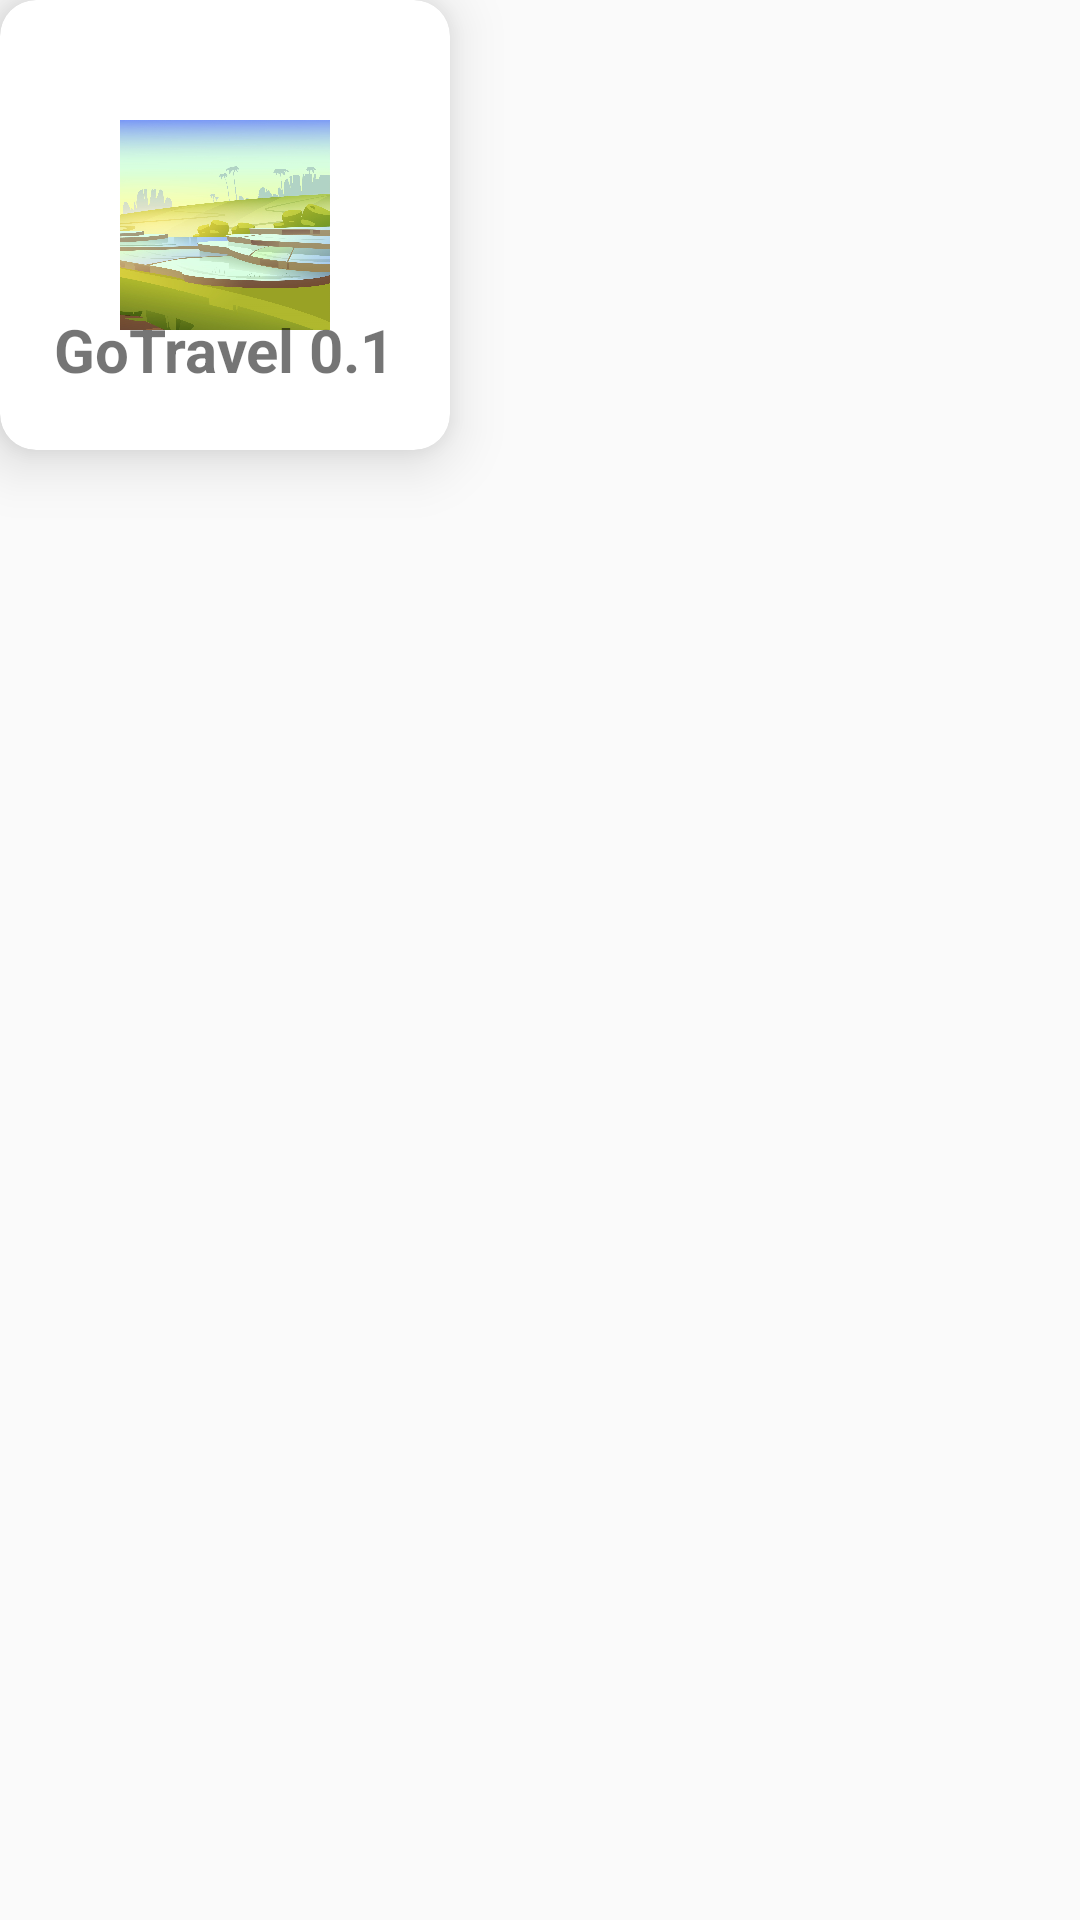

Where to tap for icons on this 1080x1920 app screen, as (x=x, y=y):
nature: (x=225, y=225)
